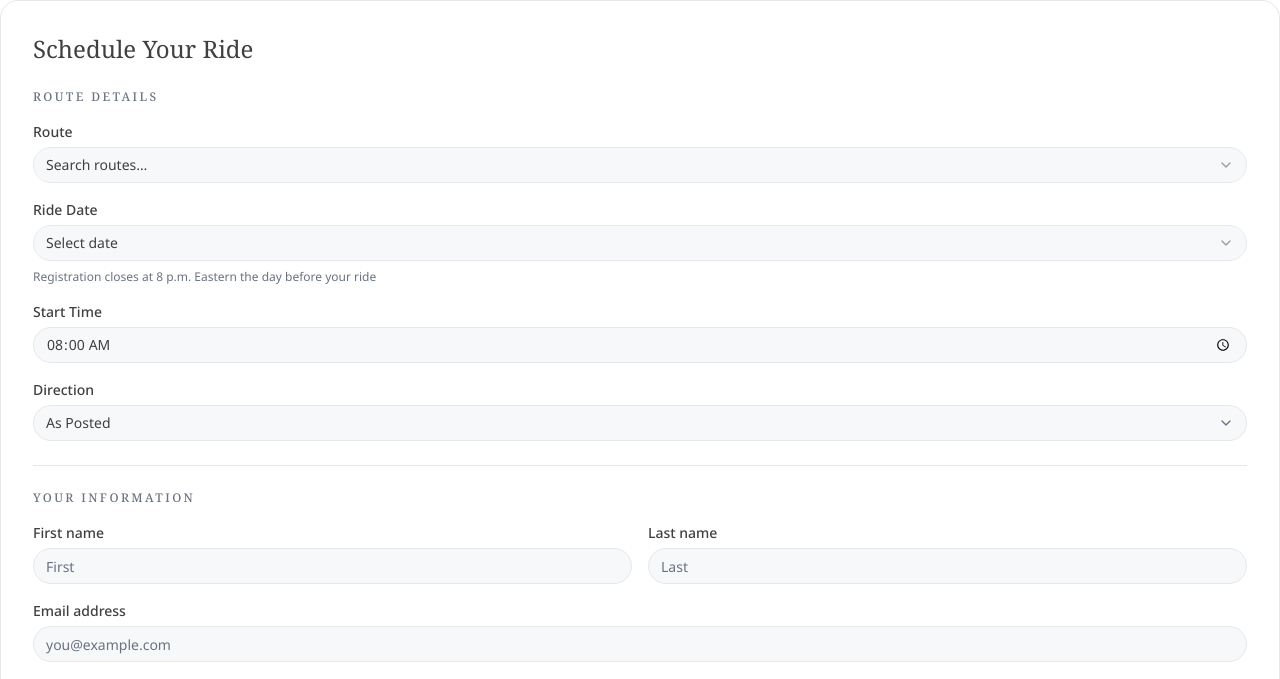
Scenario: PermanentRegistrationForm › start location field › says "The route's posted start" when no control sits at the start
The image size is (1280, 679).
Click the dropdown labelled "route".
click(97, 164)  # box [33,147,1247,183]
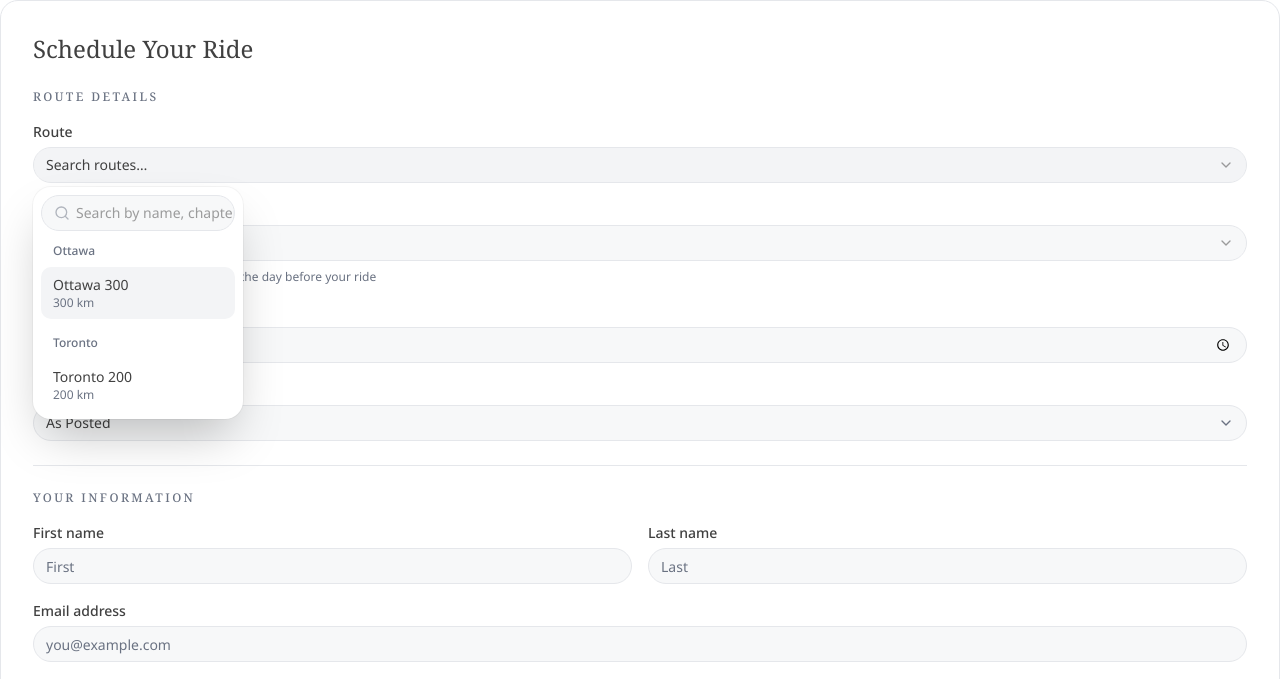
Click the option "Toronto 200 200 km".
click(93, 385)  # box [53,367,132,403]
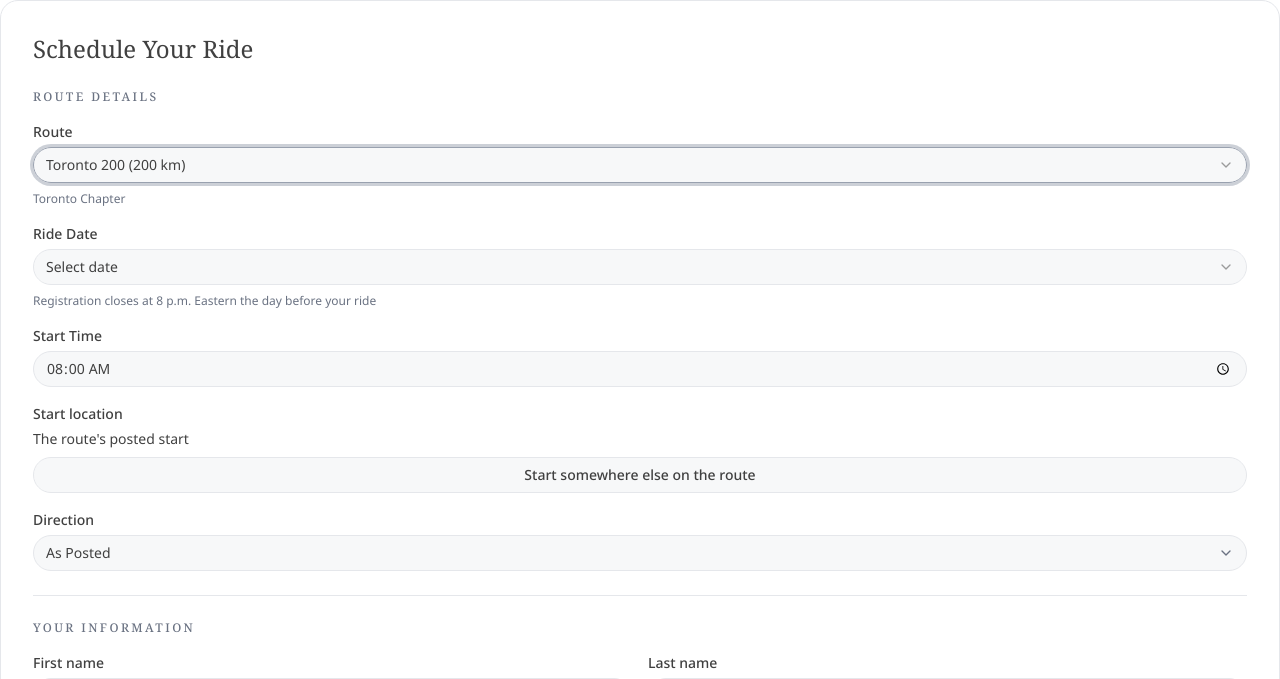
Expected: the button "Start somewhere else on the route" is shown, [33,457,1247,493]
Expected: the text "The route's posted start" is shown, [33,429,189,448]
